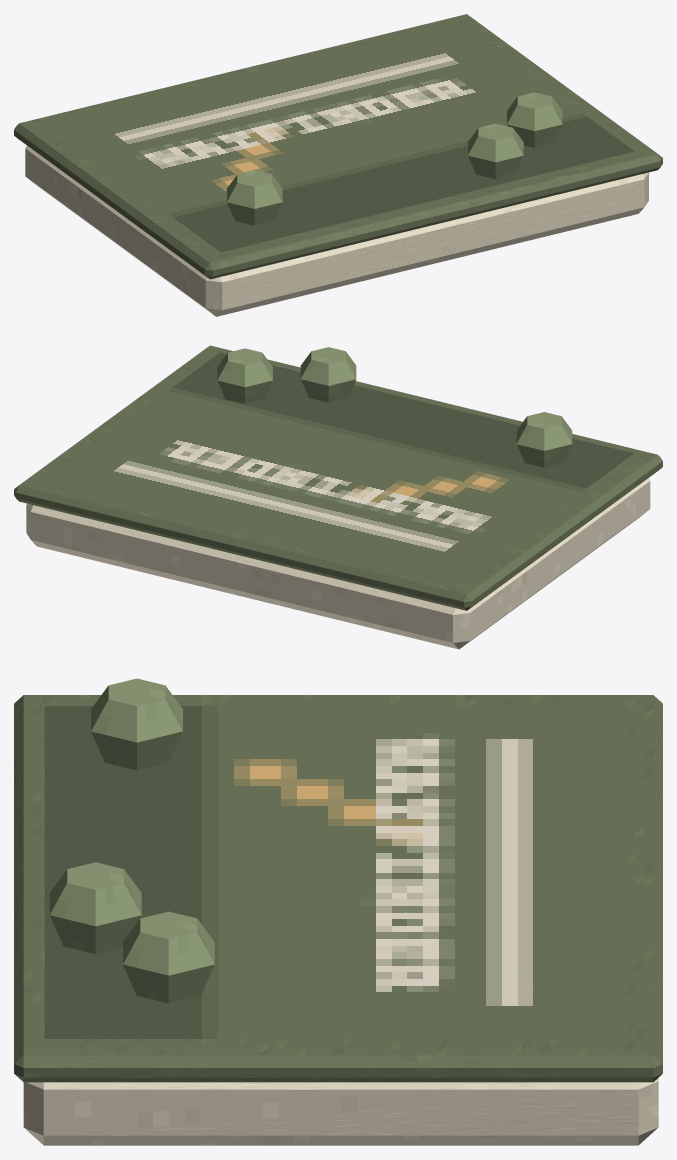
File: dnd_2.glb
3 renders of one model, top to bottom at view 1: azimuth 30°, elevation 25°; view 2: azimuth 150°, elevation 25°; view 3: azimuth 270°, elevation 25°, orthographic. The views are drawn at different scales.
Visible parts, largest first — view 1: block_printed original game cover, block_roleplaying rulebook, block_printed rulebook cover, block_game die (×3); view 2: block_printed original game cover, block_roleplaying rulebook, block_printed rulebook cover, block_game die (×3); view 3: block_printed original game cover, block_printed rulebook cover, block_roleplaying rulebook, block_game die (×3).
Boxes of the visible parts, box(x1,y1,x2,y2) form: block_printed original game cover: box(44, 22, 634, 252); block_roleplaying rulebook: box(25, 146, 648, 316); block_printed rulebook cover: box(14, 14, 662, 279); block_game die (×3): box(227, 92, 562, 225); block_printed original game cover: box(44, 352, 633, 582); block_roleplaying rulebook: box(26, 478, 650, 649); block_printed rulebook cover: box(14, 345, 662, 610); block_game die (×3): box(217, 347, 572, 467); block_printed original game cover: box(44, 706, 627, 1038); block_printed rulebook cover: box(14, 695, 662, 1082); block_roleplaying rulebook: box(23, 1078, 658, 1145); block_game die (×3): box(49, 678, 214, 1003).
Size of the model in its own units: 0.2047 by 0.0433 by 0.1524.
Materials: 1 (1 with a texture image).
